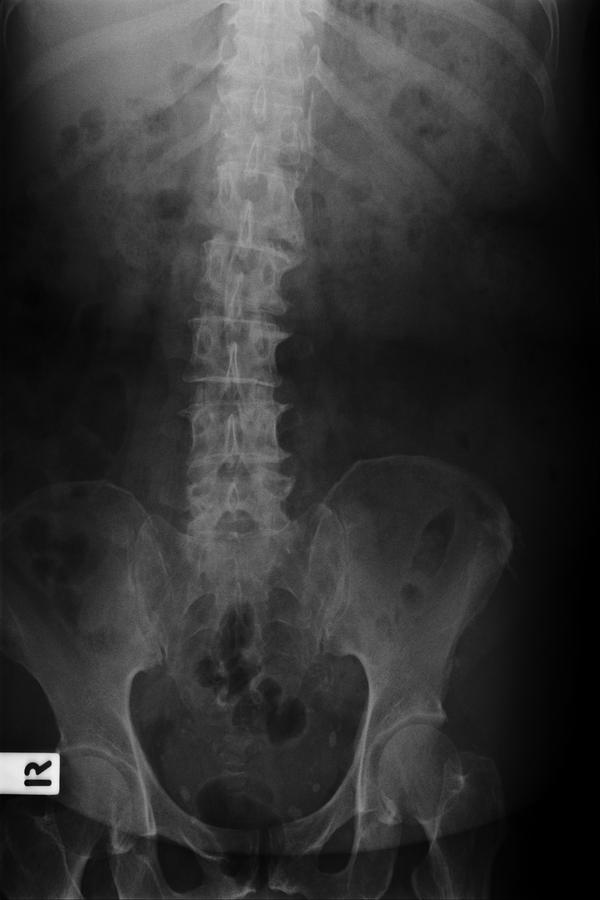lumbar scoliosis: (191, 169, 311, 563)
